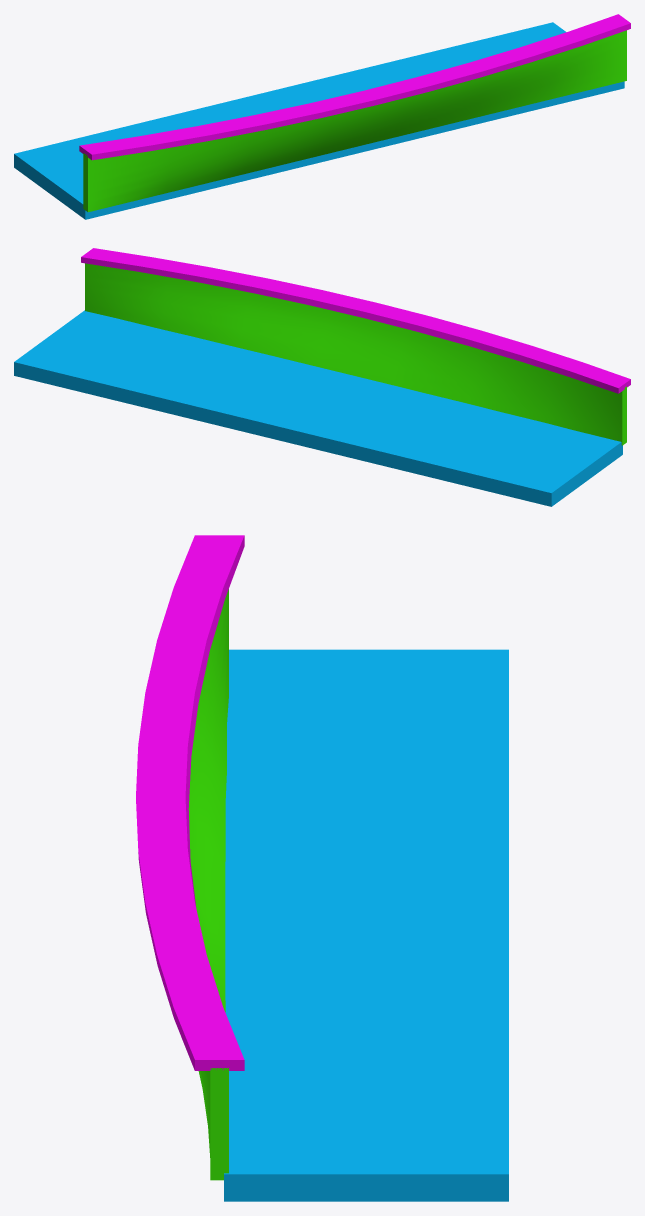
File: TestShip.FBX
3 views of the same model, one above another, from view 1: azimuth 30°, elevation 25°; view 2: azimuth 150°, elevation 25°; view 3: azimuth 270°, elevation 25° (orthographic). The views are drawn at different scales.
Visible parts, largest first — view 1: Box001, Box005, Box004; view 2: Box005, Box001, Box004; view 3: Box005, Box004, Box001.
Boxes of the visible parts, left/top/right/bottom form: Box001: left=83, top=30, right=626, bottom=212; Box005: left=14, top=22, right=624, bottom=219; Box004: left=79, top=14, right=630, bottom=160; Box005: left=14, top=310, right=622, bottom=506; Box001: left=85, top=263, right=626, bottom=445; Box004: left=81, top=248, right=630, bottom=393; Box005: left=224, top=649, right=508, bottom=1201; Box004: left=136, top=535, right=244, bottom=1070; Box001: left=188, top=589, right=228, bottom=1180.
Size of the model in its own units: 789 by 98.69 by 237.
